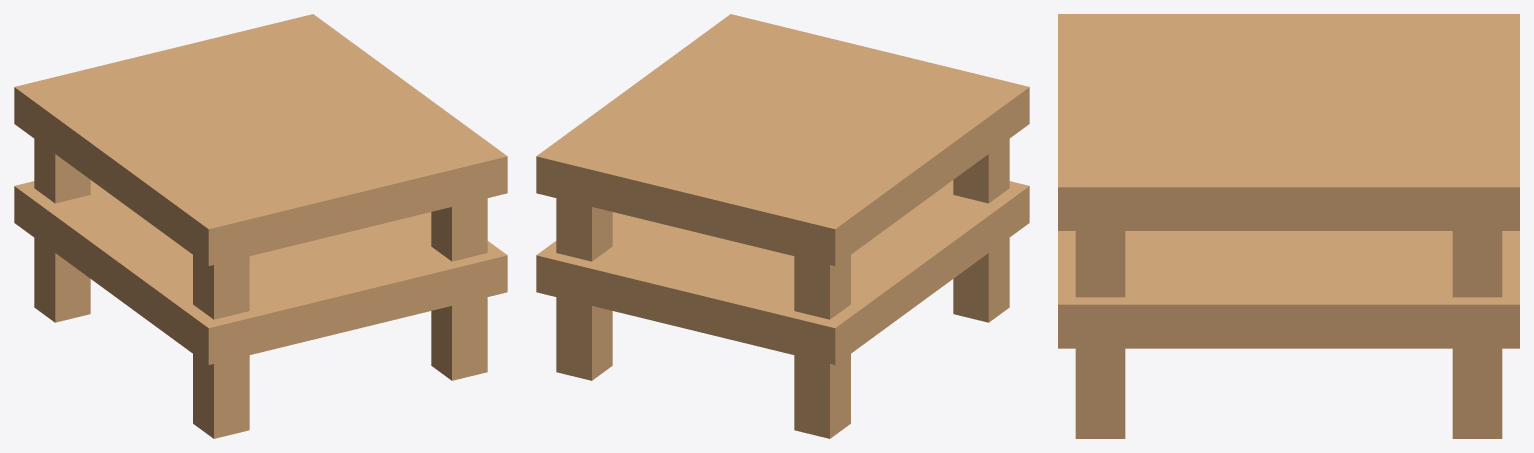
The model's file is table_TV.fbx.
The picture shows the model from 3 angles, left to right: view 1: azimuth 30°, elevation 25°; view 2: azimuth 150°, elevation 25°; view 3: azimuth 270°, elevation 25°; orthographic projection. The views are drawn at different scales.
Parts seen in each view (by area): view 1: table_coffee_small; view 2: table_coffee_small; view 3: table_coffee_small.
Part boxes in pixels (left/top/right/bottom): table_coffee_small: left=14, top=14, right=507, bottom=438; table_coffee_small: left=536, top=14, right=1029, bottom=438; table_coffee_small: left=1058, top=14, right=1519, bottom=438.
Bounding box in the file's own units: 99.4 × 88.25 × 61.53.
